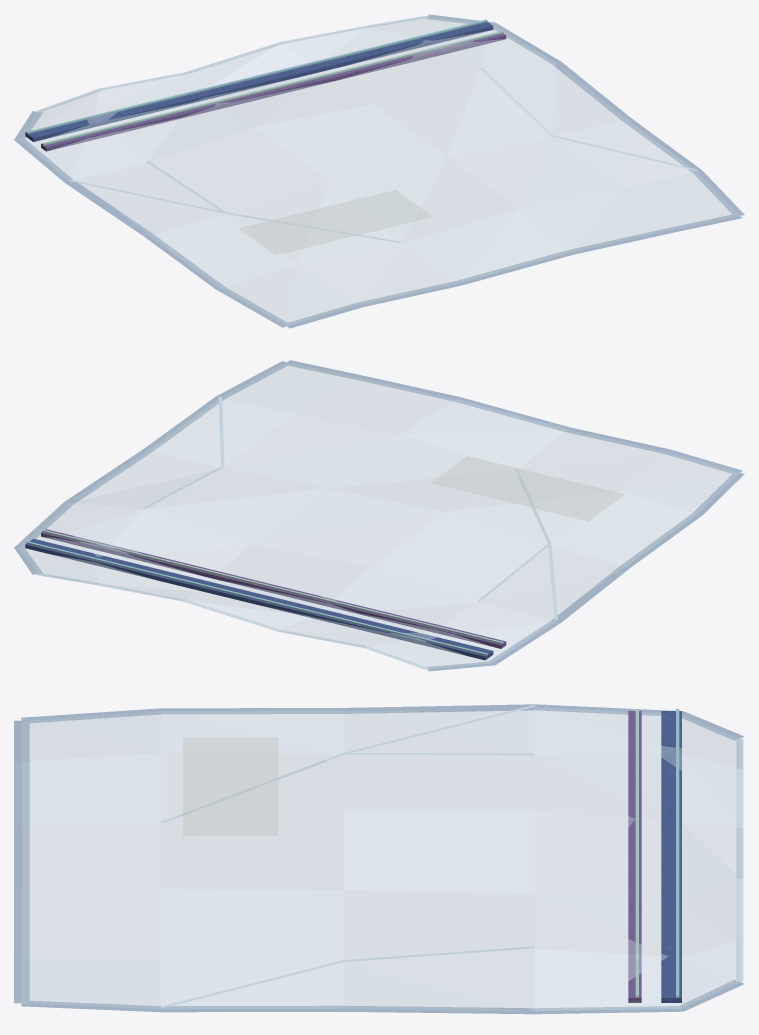
The model's file is bag_zipper_gallon.glb.
The picture shows the model from 3 angles, top to bottom: view 1: azimuth 30°, elevation 25°; view 2: azimuth 150°, elevation 25°; view 3: azimuth 270°, elevation 25°; orthographic projection. The views are drawn at different scales.
Visible parts, largest first — view 1: block_clear creased front film, block_frosted write-on patch, block_welded clear side edge (×8), block_upper press seal, block_lower press seal, block_welded bottom edge (×3), block_upper press seal highlight, block_lower press seal highlight; view 2: block_clear creased front film, block_frosted write-on patch, block_welded clear side edge (×8), block_upper press seal, block_lower press seal, block_welded bottom edge (×3), block_upper press seal highlight, block_lower press seal highlight; view 3: block_clear creased front film, block_frosted write-on patch, block_welded clear side edge (×9), block_upper press seal, block_welded bottom edge (×5), block_lower press seal, block_upper press seal highlight, block_lower press seal highlight, block_fine wrinkles in clear film.
Boxes of the visible parts, x1,y1,x2,y2 form: block_clear creased front film: (19, 16, 739, 325); block_frosted write-on patch: (238, 190, 432, 255); block_welded clear side edge (×8): (14, 22, 744, 327); block_upper press seal: (25, 22, 493, 141); block_lower press seal: (41, 33, 506, 151); block_welded bottom edge (×3): (357, 228, 672, 307); block_upper press seal highlight: (26, 19, 487, 133); block_lower press seal highlight: (42, 31, 503, 145); block_clear creased front film: (20, 362, 739, 668); block_frosted write-on patch: (431, 456, 624, 521); block_welded clear side edge (×8): (14, 361, 744, 664); block_upper press seal: (25, 538, 493, 660); block_lower press seal: (41, 529, 506, 648); block_welded bottom edge (×3): (354, 375, 669, 453); block_upper press seal highlight: (26, 541, 487, 655); block_lower press seal highlight: (42, 530, 503, 644); block_clear creased front film: (22, 707, 739, 1011); block_frosted write-on patch: (183, 737, 278, 835); block_welded clear side edge (×9): (21, 704, 744, 1014); block_upper press seal: (661, 711, 681, 1002); block_welded bottom edge (×5): (14, 720, 29, 1003); block_lower press seal: (628, 711, 641, 1002); block_upper press seal highlight: (676, 709, 679, 997); block_lower press seal highlight: (635, 709, 638, 997); block_fine wrinkles in clear film: (344, 705, 535, 754).
Bounding box in the file's own units: 0.2734 × 0.0108 × 0.2724.
3 materials, 3 textured.
